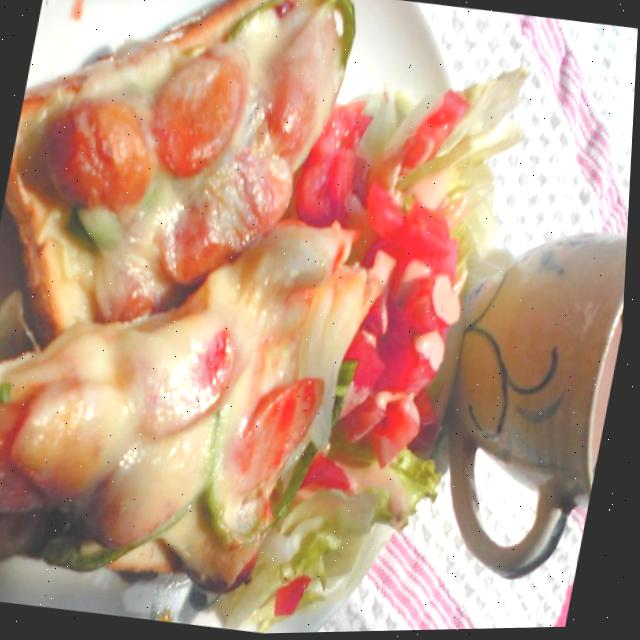面包点心: (0, 122, 497, 640)
